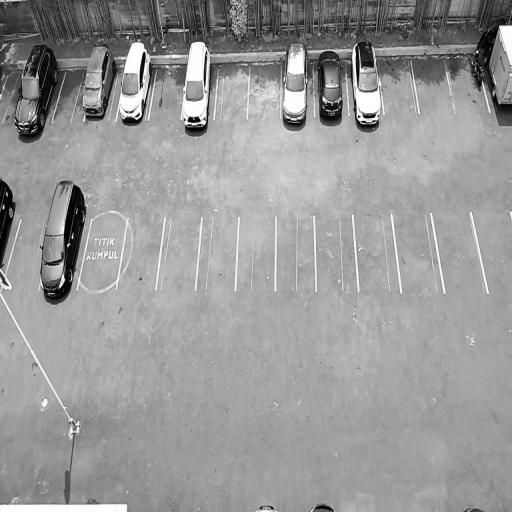Car: (39, 178, 91, 302), (11, 40, 65, 140), (116, 39, 156, 126), (478, 17, 512, 117), (77, 41, 118, 123), (180, 39, 214, 132), (350, 38, 383, 132), (282, 37, 311, 132), (316, 47, 345, 121), (0, 171, 17, 279)
Space Available: (432, 212, 488, 293), (393, 213, 443, 291), (353, 213, 401, 292), (77, 216, 128, 290), (117, 216, 164, 289), (156, 216, 202, 290), (1, 219, 47, 292), (316, 213, 359, 290), (196, 216, 239, 290), (235, 214, 276, 290), (276, 215, 317, 290), (411, 53, 454, 114), (378, 55, 420, 115), (148, 62, 187, 120), (214, 61, 249, 119), (247, 61, 281, 119), (52, 68, 87, 122), (0, 66, 23, 105)
